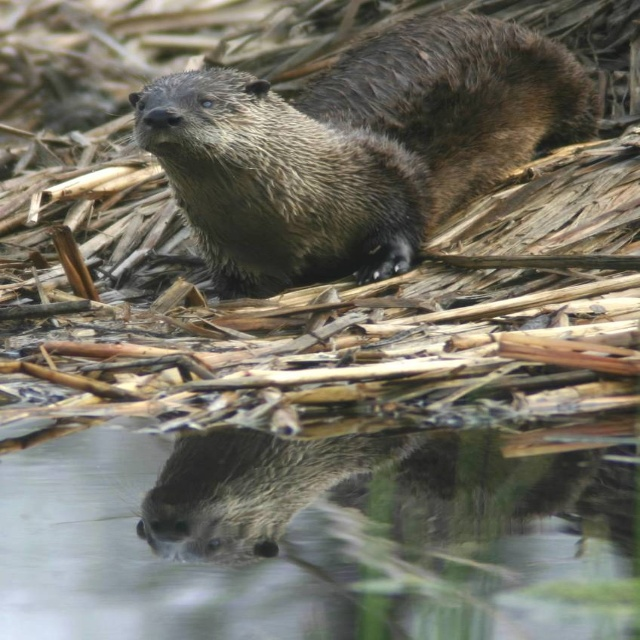Otter: (92, 10, 604, 299)
